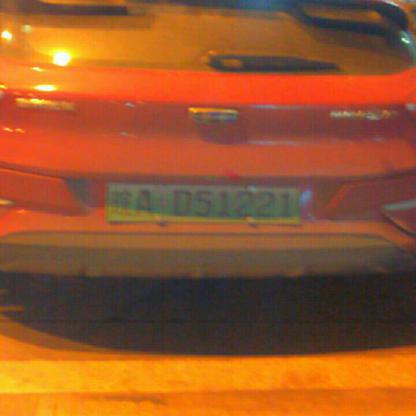lp: (107, 183, 300, 223)
